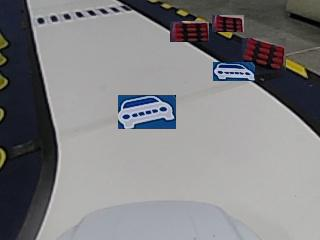crosswalk: (36, 3, 132, 25)
